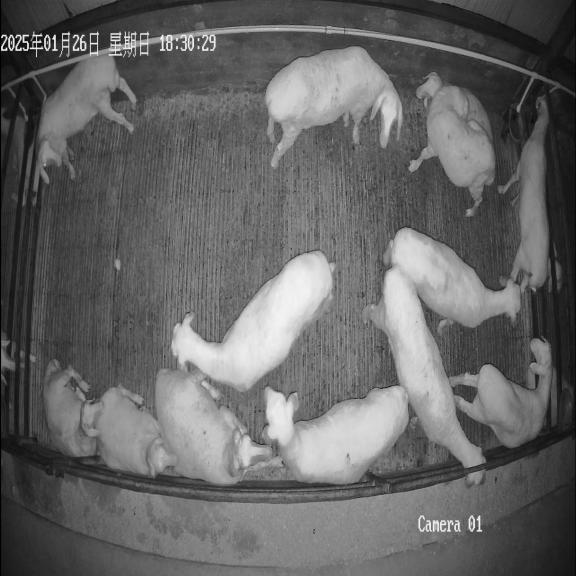drinking: (498, 95, 550, 293)
eating: (362, 264, 486, 487)
lying: (155, 369, 282, 485), (94, 385, 176, 477), (43, 359, 103, 457), (416, 72, 492, 141)
stand: (171, 250, 336, 392), (265, 46, 403, 168), (383, 228, 520, 334), (264, 386, 408, 485), (34, 55, 136, 191), (449, 338, 555, 448), (409, 97, 495, 216)
